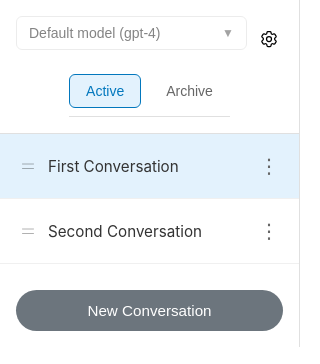
it: ConversationList › shows dropdown menu when menu button is clicked
Click the button with class "menu-button" next to "First Conversation" at (269, 166), box [255,150,283,182]
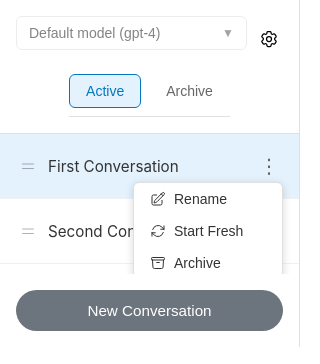
Expected: the element with class "dropdown-menu" is shown, [133,182,283,274]
Expected: the element with class "dropdown-menu" shows "Rename", [134,183,282,215]
Expected: the element with class "dropdown-menu" shows "Start Fresh", [134,215,282,247]
